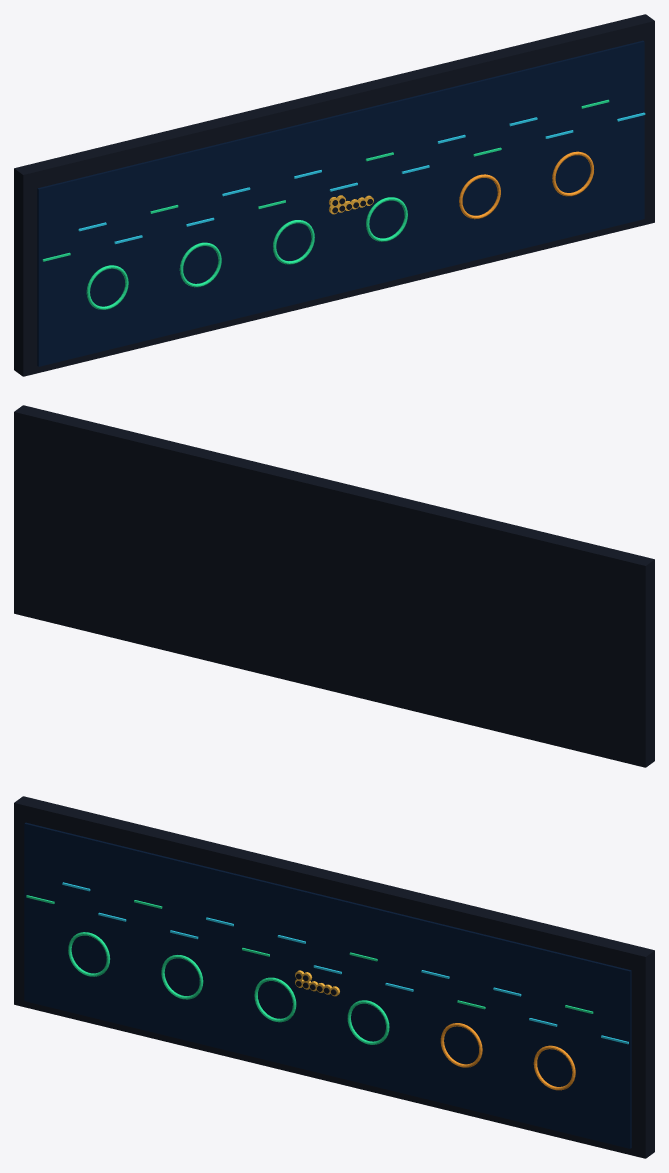
The model's file is 73_L85_HolographicRendezvousSCADA.fbx.
3 views of the same model, one above another, from view 1: azimuth 30°, elevation 25°; view 2: azimuth 150°, elevation 25°; view 3: azimuth 330°, elevation 25° (orthographic).
Parts seen in each view (by area): view 1: L85_HolographicRendezvousSCADA_Part_0001, L85_HolographicRendezvousSCADA, L85_HolographicRendezvousSCADA_Part_0002, L85_HolographicRendezvousSCADA_Part_0003, L85_HolographicRendezvousSCADA_Part_0004; view 2: L85_HolographicRendezvousSCADA; view 3: L85_HolographicRendezvousSCADA_Part_0001, L85_HolographicRendezvousSCADA, L85_HolographicRendezvousSCADA_Part_0002, L85_HolographicRendezvousSCADA_Part_0003, L85_HolographicRendezvousSCADA_Part_0004.
Boxes of the visible parts, x1,y1,x2,y2 form: L85_HolographicRendezvousSCADA_Part_0001: (37,40,644,366); L85_HolographicRendezvousSCADA: (14,14,654,376); L85_HolographicRendezvousSCADA_Part_0002: (42,99,609,309); L85_HolographicRendezvousSCADA_Part_0003: (78,112,645,244); L85_HolographicRendezvousSCADA_Part_0004: (459,151,593,219); L85_HolographicRendezvousSCADA: (14,405,654,767); L85_HolographicRendezvousSCADA_Part_0001: (24,822,631,1148); L85_HolographicRendezvousSCADA: (14,796,654,1158); L85_HolographicRendezvousSCADA_Part_0002: (26,895,593,1044); L85_HolographicRendezvousSCADA_Part_0003: (62,882,628,1044); L85_HolographicRendezvousSCADA_Part_0004: (440,1023,575,1090).
Size of the model in its own units: 950 by 290 by 60.2.
